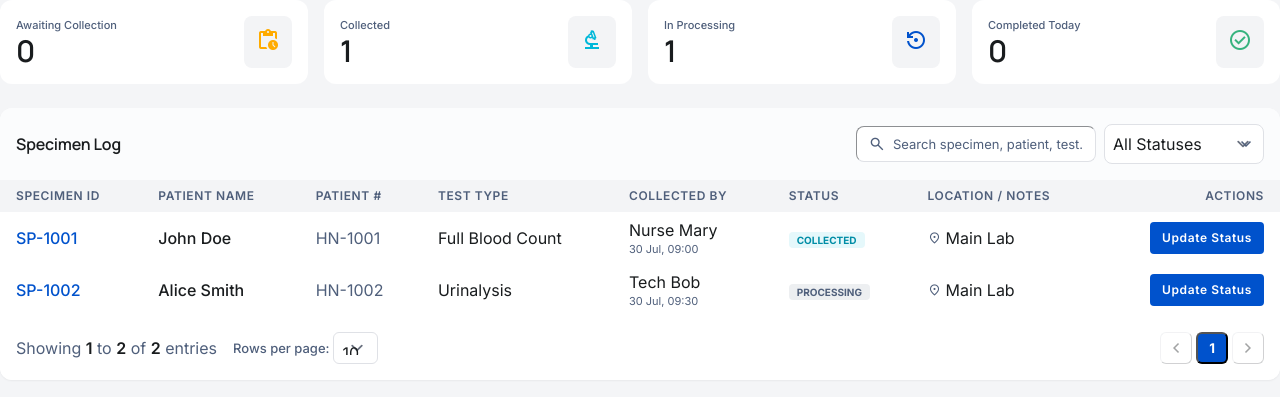
Scenario: SpecimenTrackingPage Component › filters specimens by status dropdown option
The width and height of the screenshot is (1280, 397).
Expected: the text "John Doe" is shown, [142,212,300,264]
Select "Processing" in the dropdown showing "All Statuses" at (1184, 144), box [1104,124,1264,164]
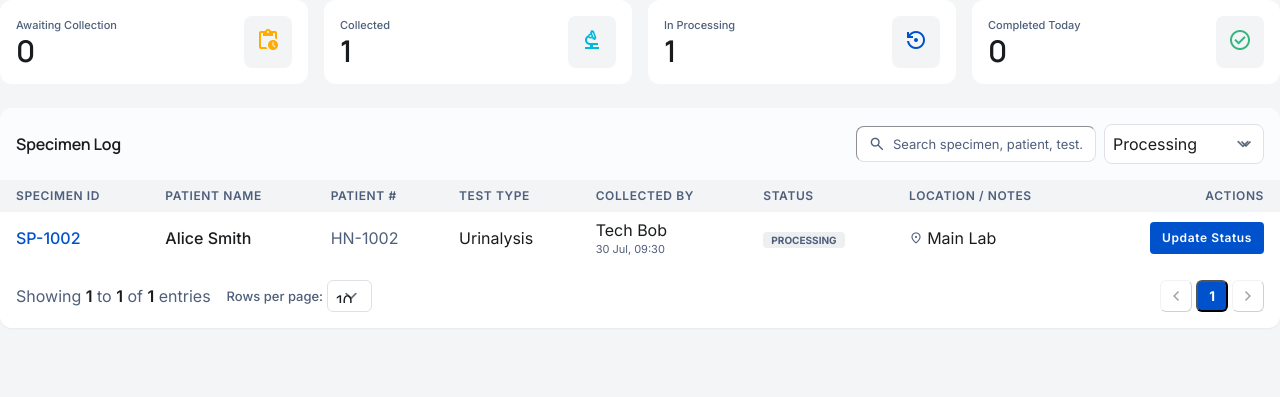
Expected: the text "Alice Smith" is shown, [149,212,315,264]
Result: the text "John Doe" is gone
